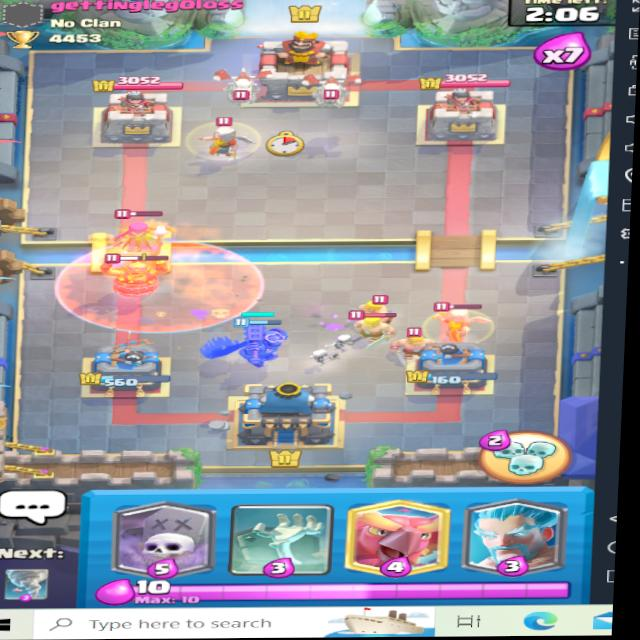barbarian: (345, 306, 396, 340), (351, 293, 397, 325), (387, 327, 434, 357)
battle-healer: (427, 298, 500, 349), (188, 116, 266, 158)
goblin-demolisher: (99, 253, 170, 300)
skeleton-dragon: (300, 69, 366, 113), (211, 66, 274, 108)
witch: (113, 213, 162, 252)
